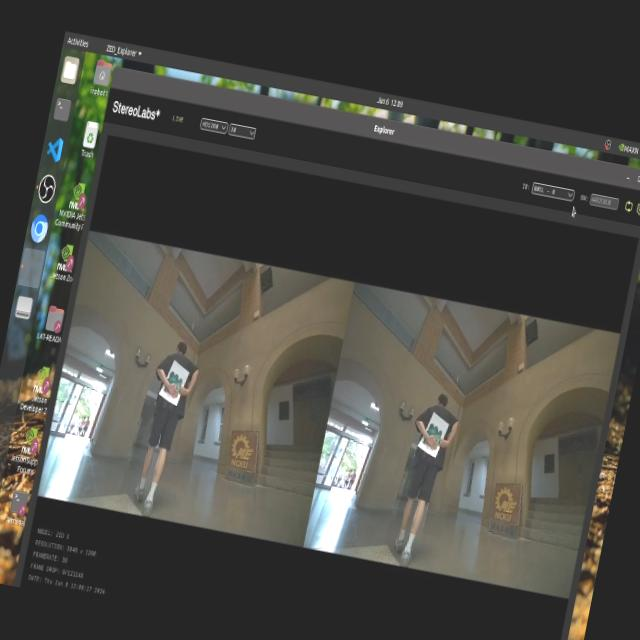green: (421, 412, 452, 448), (164, 371, 186, 404)
